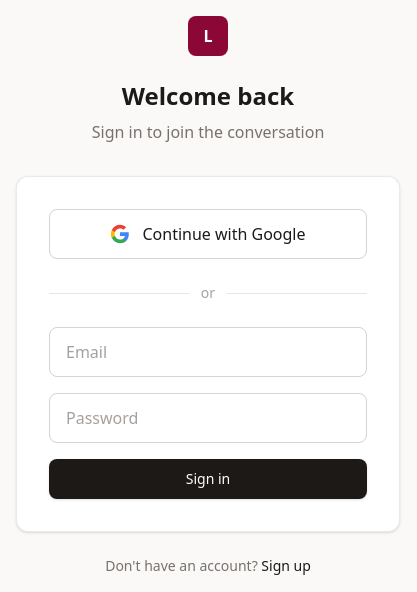
Test: LoginPage › shows loading state during submission
This screenshot has width=417, height=592.
Type "test@example.com" into the field with placeholder "Email" at [208, 352], box [49,327,367,377]
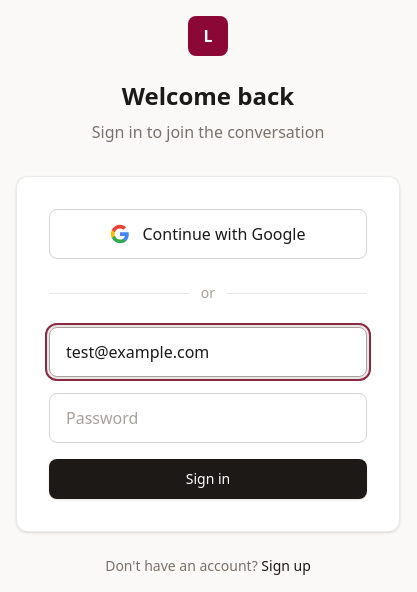
Type "password123" into the password field with placeholder "Password" at [208, 418], box [49,393,367,443]
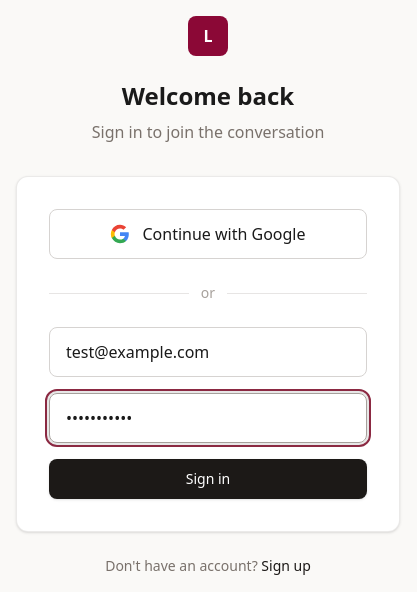
Click the button "Sign in" at [208, 479], box [49,459,367,499]
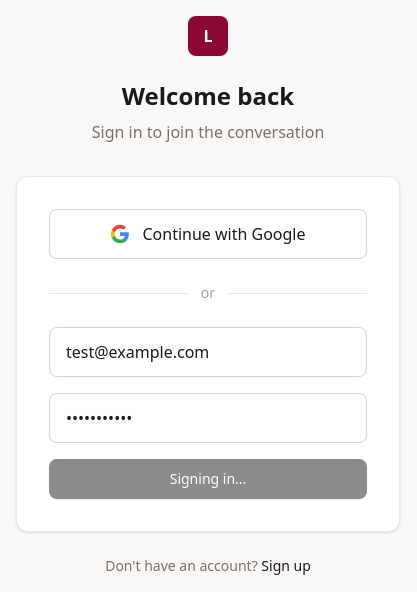
Check: the button "Signing in..." is disabled, box [49,459,367,499]
